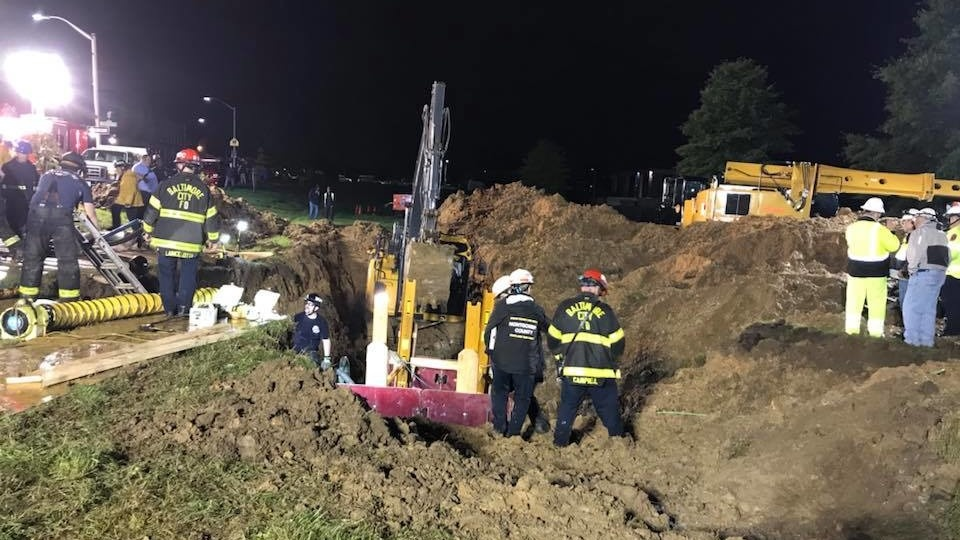blue: (53, 148, 87, 178), (299, 291, 323, 316), (12, 139, 33, 162)
red: (173, 146, 202, 177), (579, 271, 606, 300)
white: (508, 267, 533, 298), (860, 196, 885, 220), (914, 205, 936, 228), (900, 208, 917, 232)
